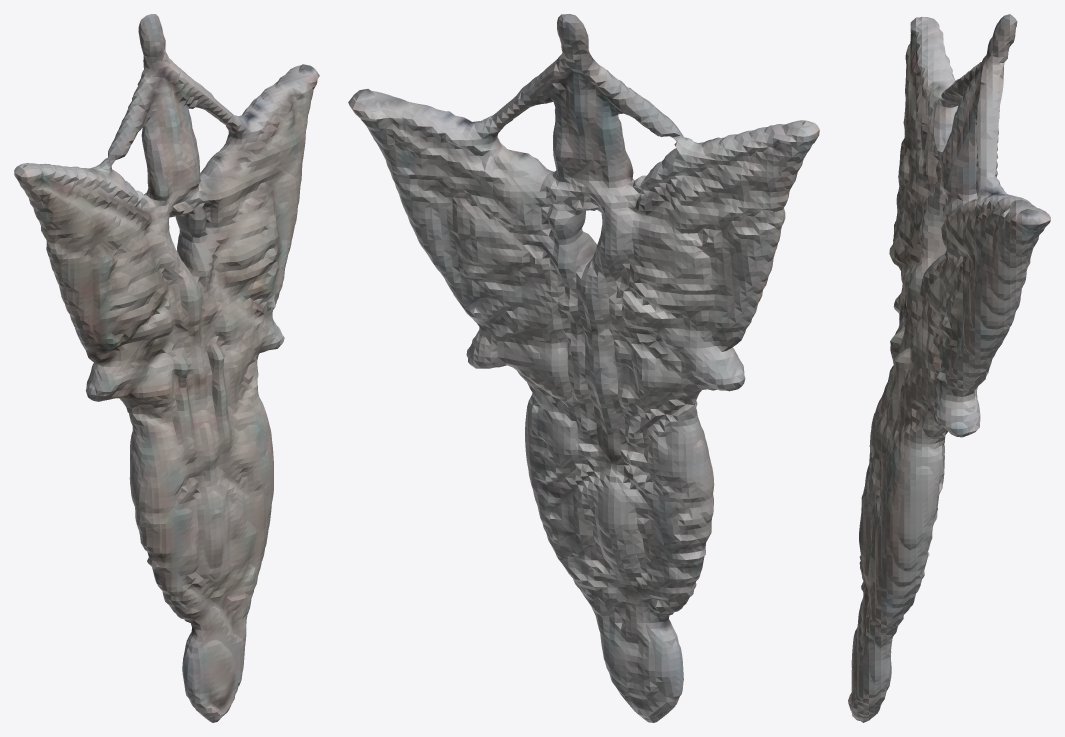
The model's file is evenstar.glb.
3 views of the same model, side by side, from view 1: azimuth 30°, elevation 25°; view 2: azimuth 150°, elevation 25°; view 3: azimuth 270°, elevation 25° (orthographic). The views are drawn at different scales.
Visible parts, largest first — view 1: world; view 2: world; view 3: world.
Part boxes in pixels (box(x1,y1,x2,y2)): world: box(14, 14, 319, 722); world: box(348, 14, 819, 722); world: box(848, 14, 1050, 722).
Bounding box in the file's own units: 0.5047 × 0.9067 × 0.2355.
